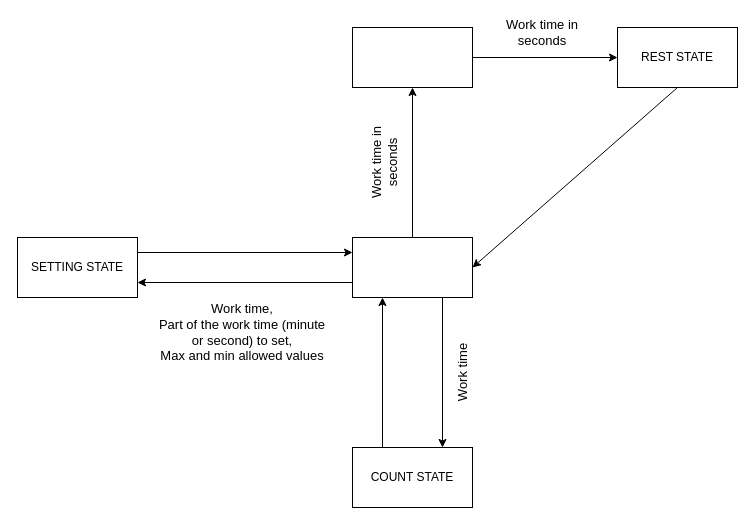
Some shapes in this 755 by 525 pixel diagram are drawn without their labels. Each missing label, with the centre of its shape:
"EXTRA REST STATE" belongs at point (412, 267).
"WORK STATE" belongs at point (412, 57).
